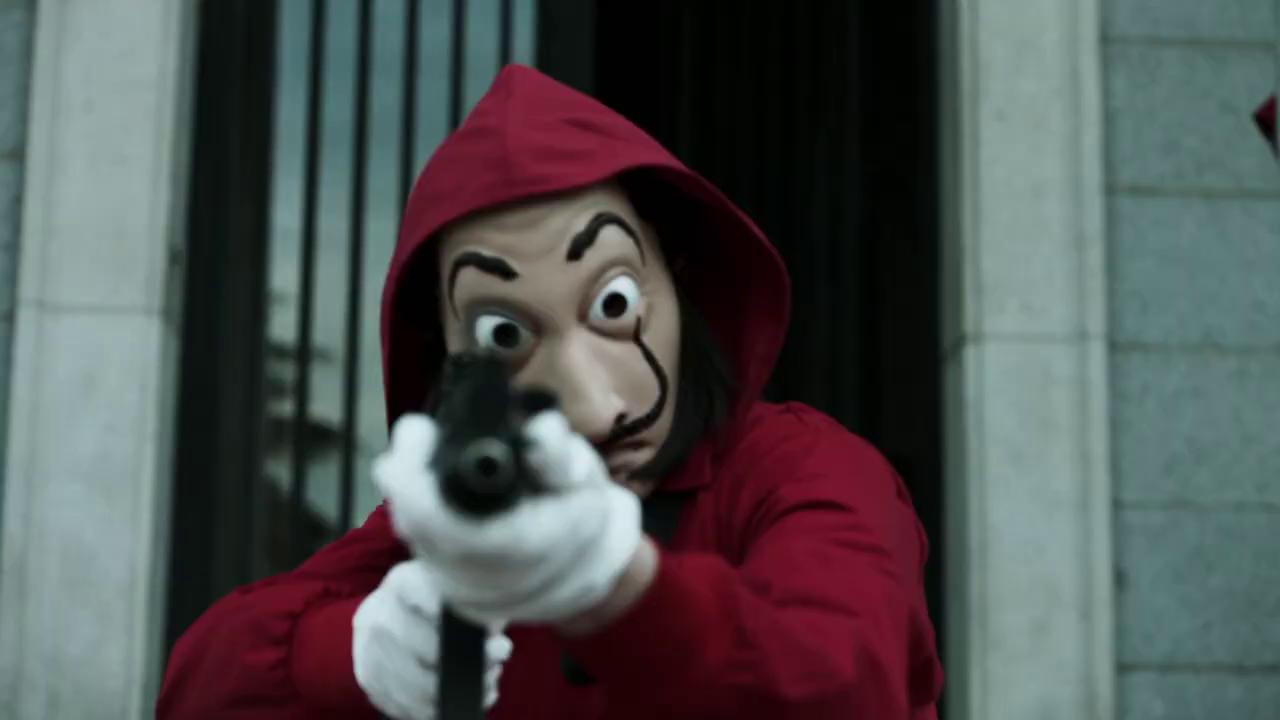criminal: (154, 61, 950, 720)
weapon: (422, 344, 555, 720)
